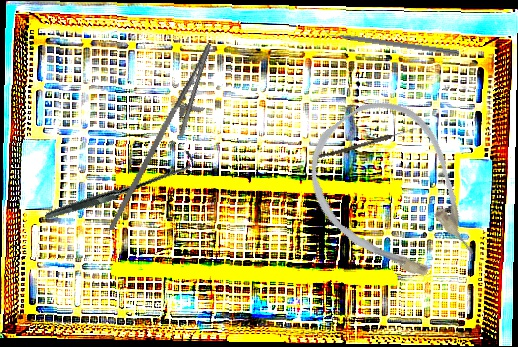Cannula: (285, 80, 504, 311)
Chopper: (318, 23, 462, 56)
Hook Surgical: (44, 111, 196, 260)
Needle Holder: (107, 33, 228, 246)
Surgical Spoon: (314, 125, 418, 162)
